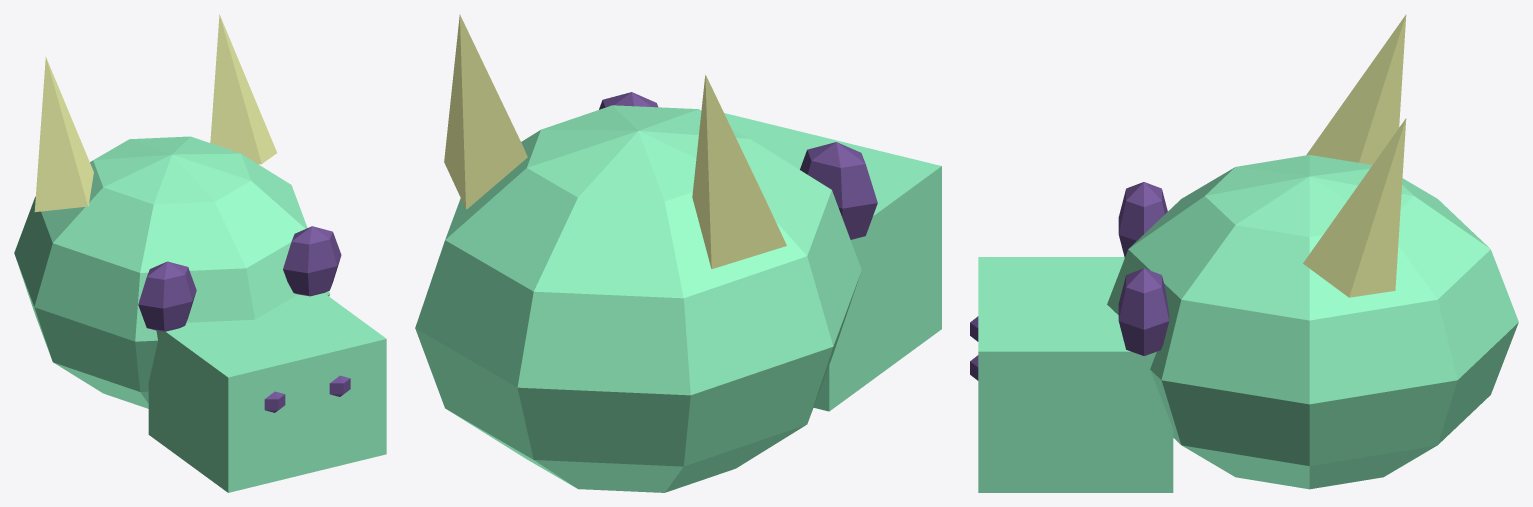
File: dragon_head.glb
The picture shows the model from 3 angles, left to right: view 1: azimuth 30°, elevation 25°; view 2: azimuth 150°, elevation 25°; view 3: azimuth 270°, elevation 25°; orthographic projection. The views are drawn at different scales.
Parts seen in each view (by area): view 1: Head; view 2: Head; view 3: Head.
Part boxes in pixels (x1,y1,x2,y2): Head: (14,14,386,492); Head: (415,14,941,492); Head: (970,14,1518,492).
Size of the model in its own units: 0.8 by 0.9107 by 1.13.
